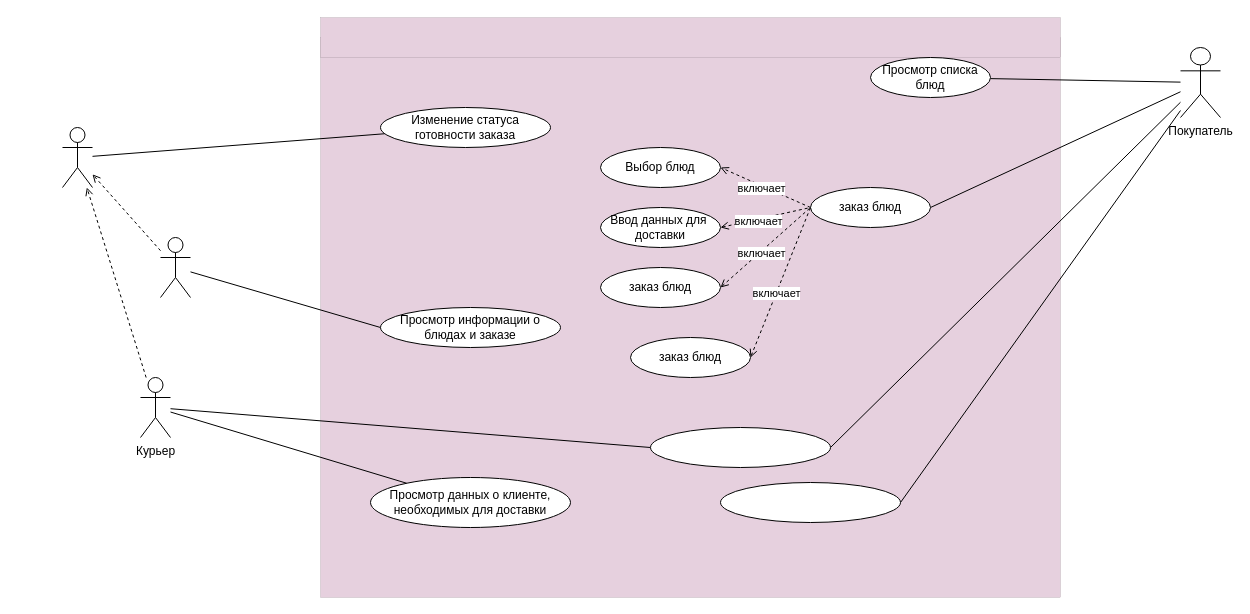
This 1250x614 diagram has some shape labels left out. The shapes that lost their labels are listed below. From the top down, each one's centre as x and y in pixels, then its label:
the point at 690,37: Ресторан по доставке блюд
the point at 77,157: Сотрудник ресторана
the point at 175,267: Повар
the point at 740,447: Просмотр информации о готовности заказа
the point at 810,502: Просмотр информации о местоположении курьера
